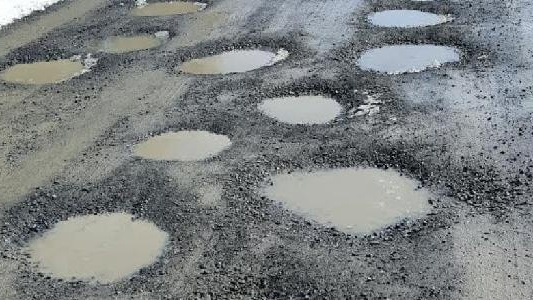pothole: (243, 150, 448, 241), (18, 201, 181, 287), (344, 32, 472, 77), (169, 32, 296, 75), (131, 121, 239, 162), (256, 84, 350, 126), (0, 51, 94, 86), (362, 4, 459, 28), (88, 29, 168, 55), (124, 0, 213, 18)
